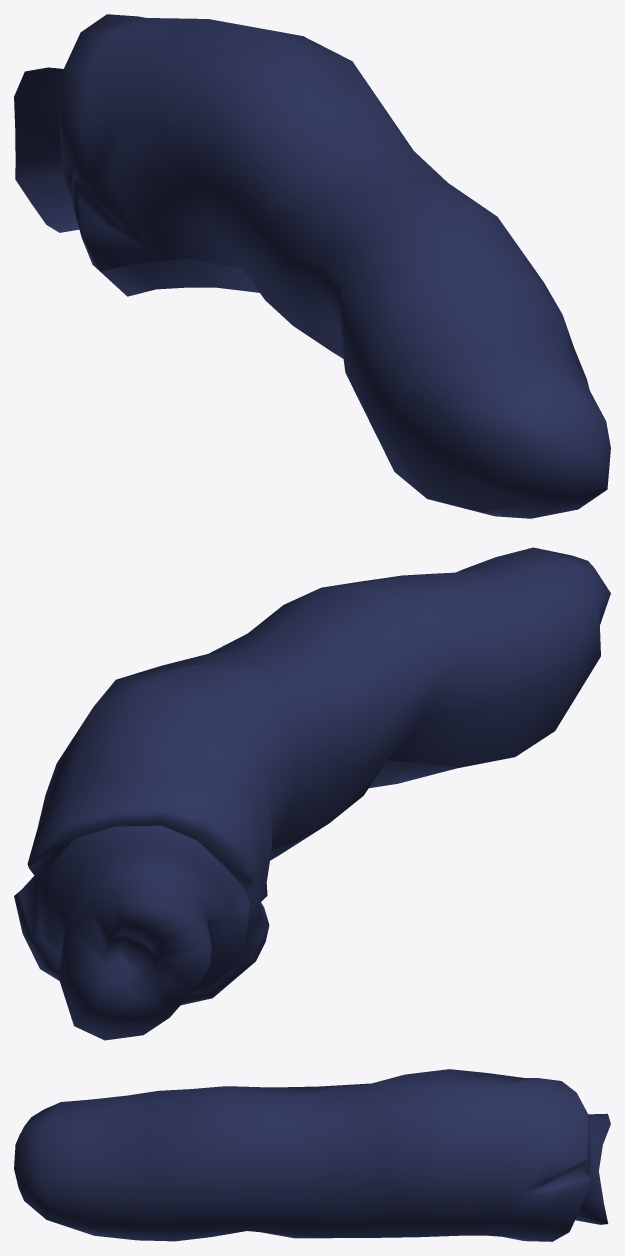
File: LittleFinger.FBX
3 views of the same model, one above another, from view 1: azimuth 30°, elevation 25°; view 2: azimuth 150°, elevation 25°; view 3: azimuth 270°, elevation 25° (orthographic). The views are drawn at different scales.
Parts seen in each view (by area): view 1: LittleFinger; view 2: LittleFinger; view 3: LittleFinger.
Boxes of the visible parts, left/top/right/bottom form: LittleFinger: left=14, top=14, right=610, bottom=518; LittleFinger: left=14, top=547, right=610, bottom=1040; LittleFinger: left=14, top=1069, right=610, bottom=1241.
Size of the model in its own units: 2.08 by 2.17 by 6.86.
